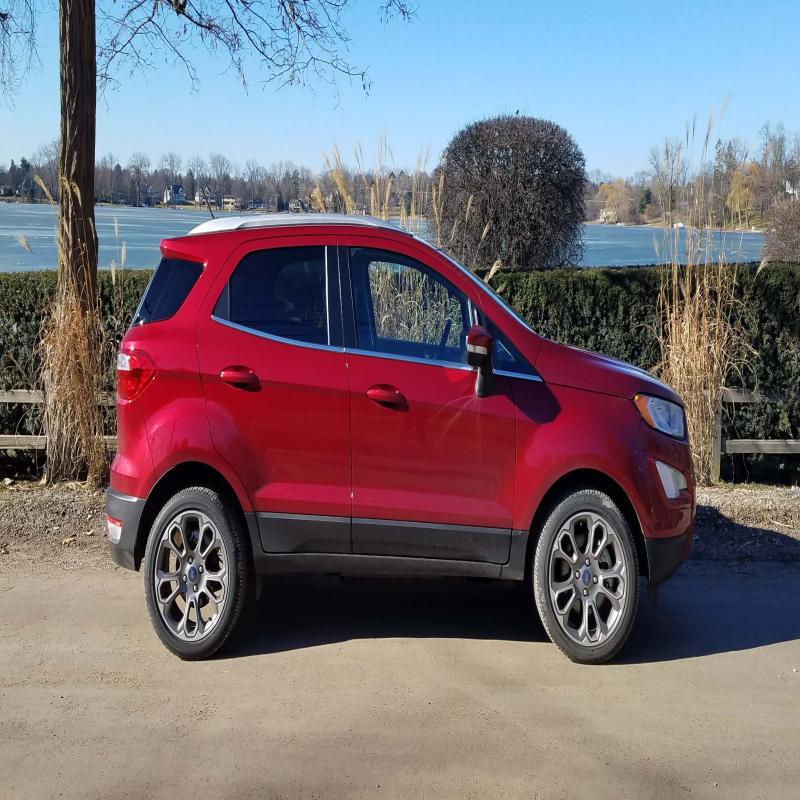car: (107, 196, 717, 660)
